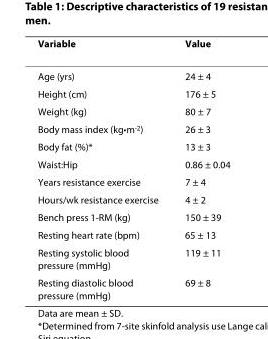table: (36, 36, 229, 300)
table column: (36, 36, 170, 300), (170, 36, 229, 300)
table column header: (36, 36, 229, 59)
table row: (36, 243, 229, 273), (36, 273, 229, 300), (36, 59, 229, 84), (36, 36, 229, 59), (36, 101, 229, 119), (36, 119, 229, 137), (36, 154, 229, 172), (36, 172, 229, 190), (36, 207, 229, 225), (36, 225, 229, 243), (36, 84, 229, 101), (36, 137, 229, 154), (36, 190, 229, 207)
